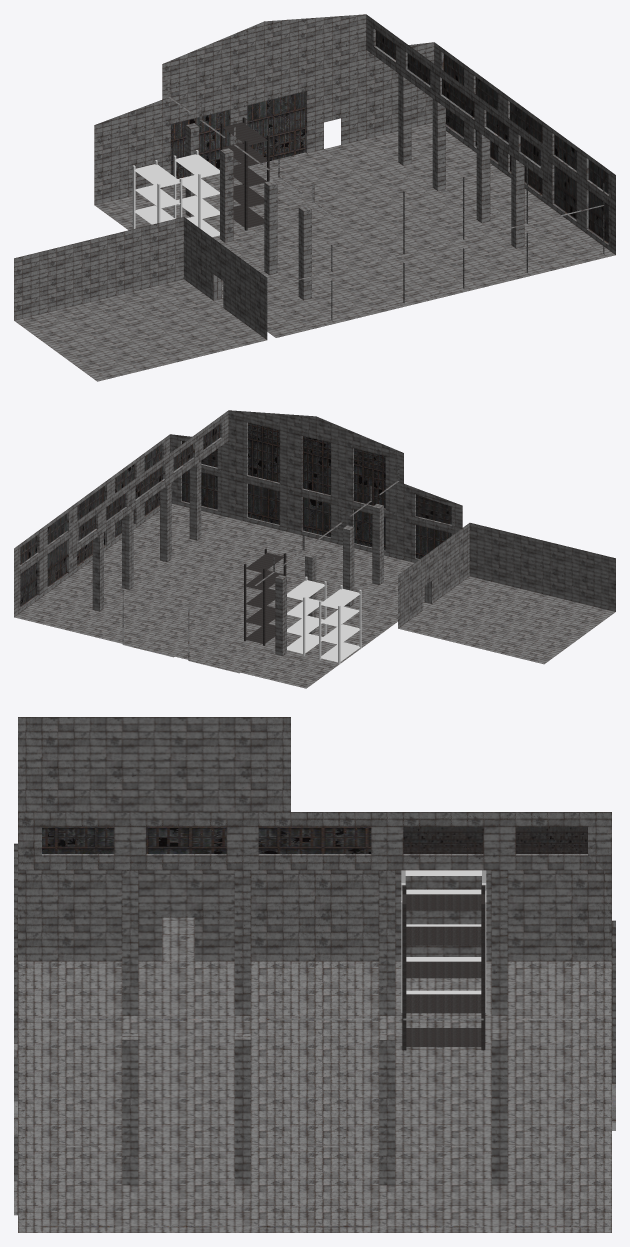
3 renders of one model, top to bottom at view 1: azimuth 30°, elevation 25°; view 2: azimuth 150°, elevation 25°; view 3: azimuth 270°, elevation 25°, orthographic. The views are drawn at different scales.
Parts seen in each view (by area): view 1: Box-col.010, Cube.006-col.001, Cube.001, Cube.001-col.001, Box-col.011, Box-col.017, Box-col.015, Box-col.018, Box-col.013, Box-col.012, Box-col.014, Box-col.016; view 2: Box-col.010, Cube.006-col.001, Cube.001-col.001, Cube.001, Box-col.014, Box-col.018, Box-col.016, Box-col.013, Box-col.011, Box-col.012, Box-col.015, Box-col.017; view 3: Box-col.010, Cube.006-col.001, Box-col.011, Box-col.012, Box-col.013, Box-col.014, Box-col.015, Box-col.016, Box-col.017, Box-col.018, Cube.001.
Part boxes in pixels (x1,y1,x2,y2): Box-col.010: (14,14,615,381); Cube.006-col.001: (220,117,269,230); Cube.001: (173,150,219,237); Cube.001-col.001: (132,160,182,229); Box-col.011: (476,131,490,222); Box-col.017: (220,148,233,242); Box-col.015: (264,180,277,274); Box-col.018: (298,205,311,300); Box-col.013: (432,99,445,190); Box-col.012: (398,73,411,165); Box-col.014: (511,156,524,248); Box-col.016: (185,123,199,217); Box-col.010: (14,410,615,688); Cube.006-col.001: (244,548,286,645); Cube.001-col.001: (319,585,361,664); Cube.001: (287,576,326,655); Box-col.014: (189,461,201,540); Box-col.018: (372,503,383,584); Box-col.016: (275,575,286,655); Box-col.013: (122,510,133,589); Box-col.011: (160,483,171,561); Box-col.012: (92,532,103,611); Box-col.015: (343,525,354,606); Box-col.017: (305,553,316,634); Box-col.010: (14,717,615,1232); Cube.006-col.001: (402,885,485,1050); Box-col.011: (234,1033,250,1185); Box-col.012: (491,1033,507,1185); Box-col.013: (379,1033,395,1185); Box-col.014: (122,1033,138,1185); Box-col.015: (234,870,250,1015); Box-col.016: (491,870,507,1015); Box-col.017: (379,870,395,1015); Box-col.018: (122,870,138,1015); Cube.001: (401,883,486,1012).
Bounding box in the file's own units: 80.85 × 21.15 × 49.5.
3 materials, 3 textured.
